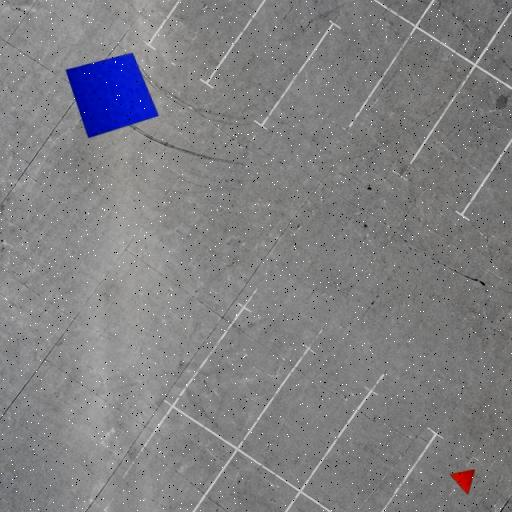BLUE_SQUARE: (65, 53, 160, 138)
